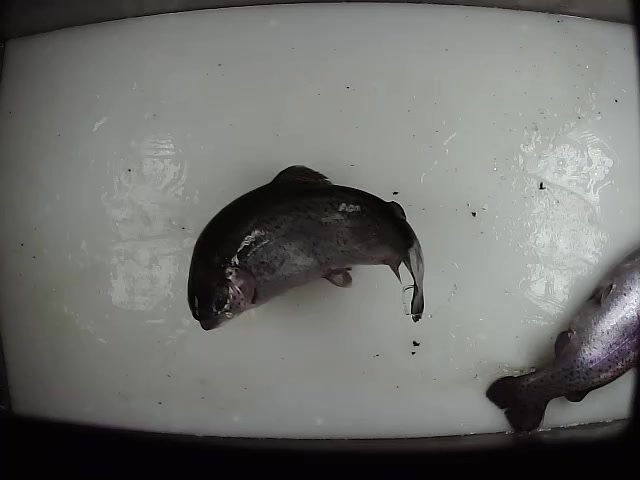fish: (185, 163, 426, 332)
